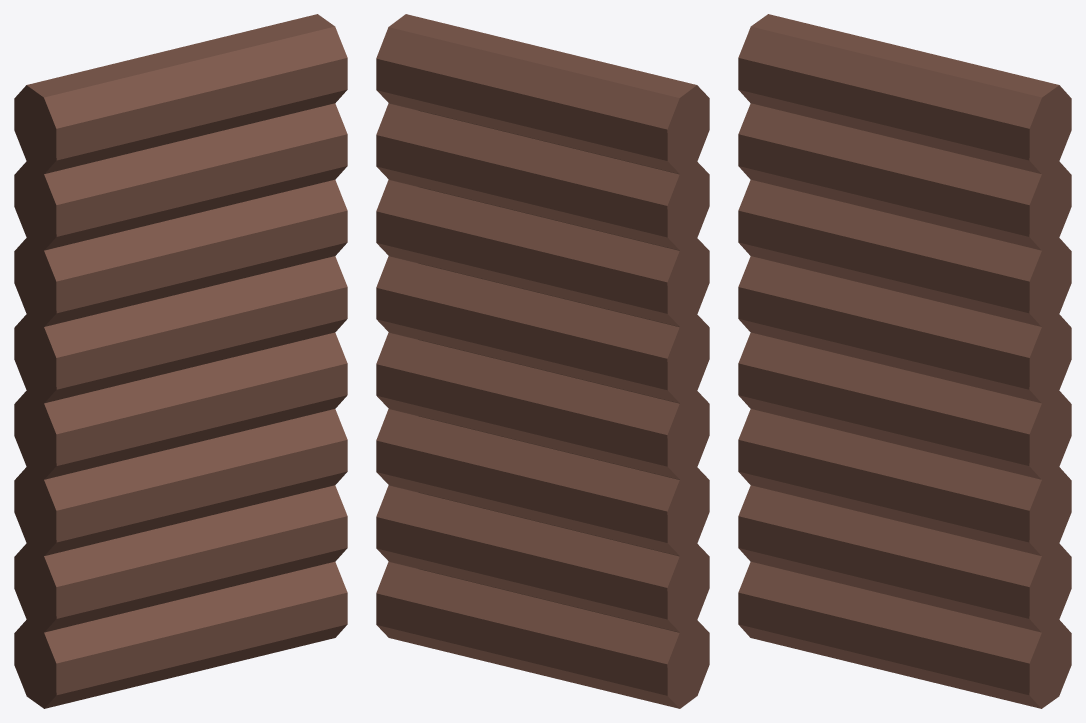
File: Wall.fbx
The picture shows the model from 3 angles, left to right: view 1: azimuth 30°, elevation 25°; view 2: azimuth 150°, elevation 25°; view 3: azimuth 330°, elevation 25°; orthographic projection.
Visible parts, largest first — view 1: wall; view 2: wall; view 3: wall.
Part boxes in pixels (x1,y1,x2,y2): wall: [14, 14, 347, 708]; wall: [376, 14, 709, 708]; wall: [738, 14, 1071, 708].
Size of the model in its own units: 1 by 2.01 by 0.2515.
1 material, 1 textured.
